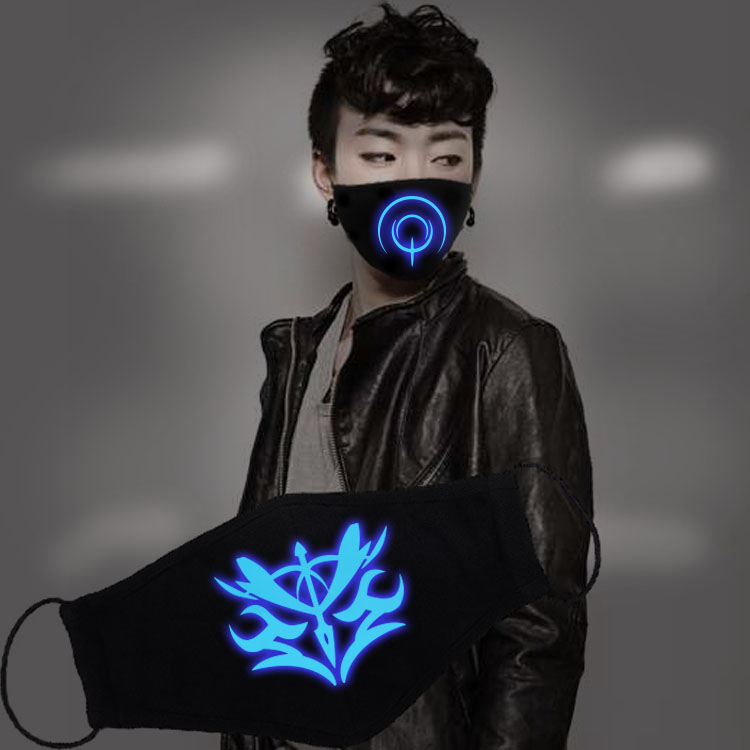face_mask: (331, 83, 473, 270)
